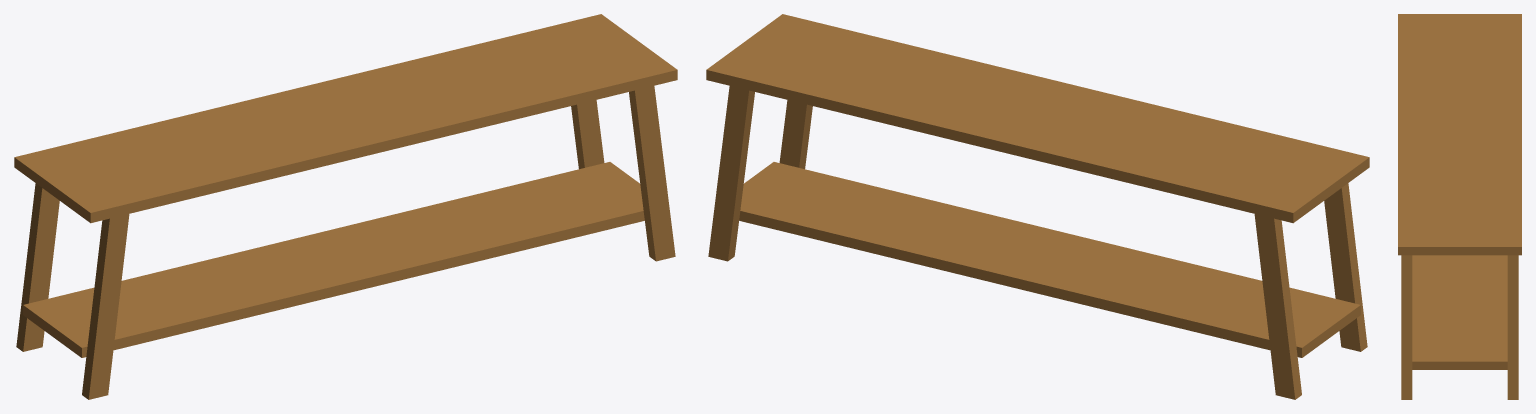
The model's file is furniture-bench-storage-wood.glb.
The picture shows the model from 3 angles, left to right: view 1: azimuth 30°, elevation 25°; view 2: azimuth 150°, elevation 25°; view 3: azimuth 270°, elevation 25°; orthographic projection. The views are drawn at different scales.
Visible parts, largest first — view 1: bench-storage-wood; view 2: bench-storage-wood; view 3: bench-storage-wood.
Part boxes in pixels (x1=…): bench-storage-wood: x1=14, y1=14, x2=677, y2=399; bench-storage-wood: x1=706, y1=14, x2=1369, y2=399; bench-storage-wood: x1=1398, y1=14, x2=1521, y2=399.
Size of the model in its own units: 1.5 by 0.46 by 0.3376.
